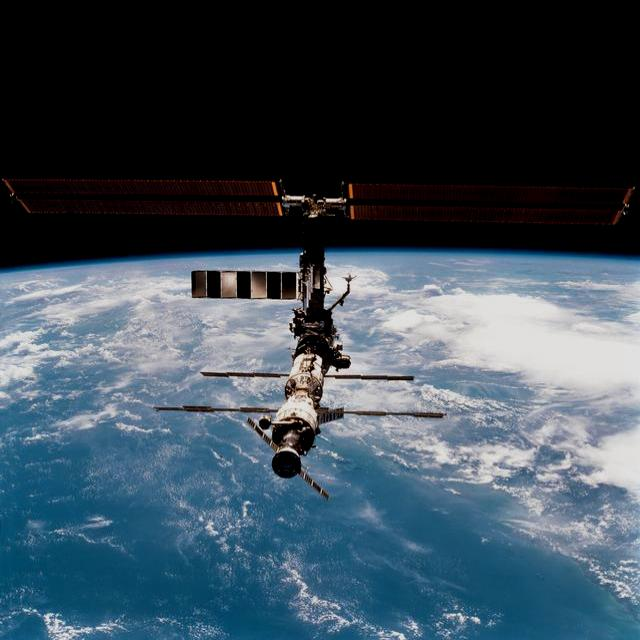satellite: (4, 180, 634, 497)
